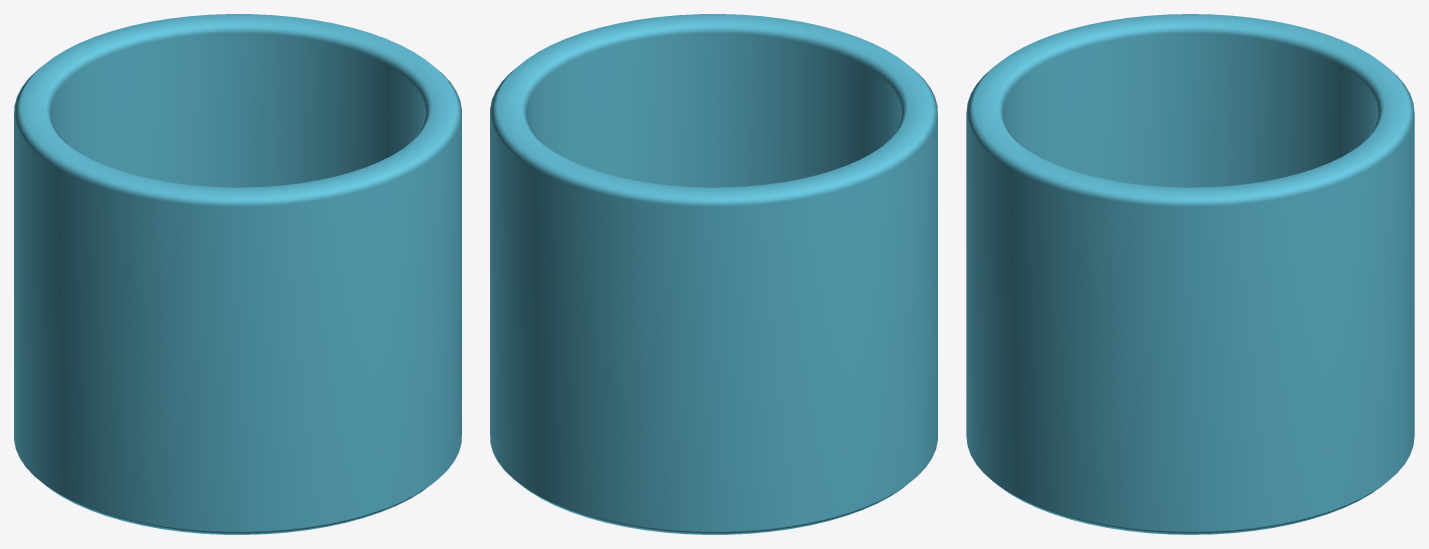
3 renders of one model, left to right at view 1: azimuth 30°, elevation 25°; view 2: azimuth 150°, elevation 25°; view 3: azimuth 270°, elevation 25°, orthographic.
Visible parts, largest first — view 1: seal_body; view 2: seal_body; view 3: seal_body.
Boxes of the visible parts, x1,y1,x2,y2 form: seal_body: (14,14,461,534); seal_body: (490,14,937,534); seal_body: (966,14,1414,534).
Size of the model in its own units: 0.03 by 0.025 by 0.03.
